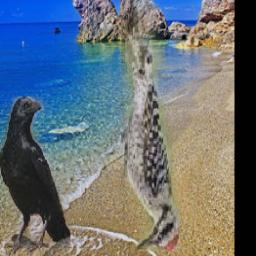Crow: (0, 98, 71, 256)
Woodpecker: (121, 0, 180, 251)
